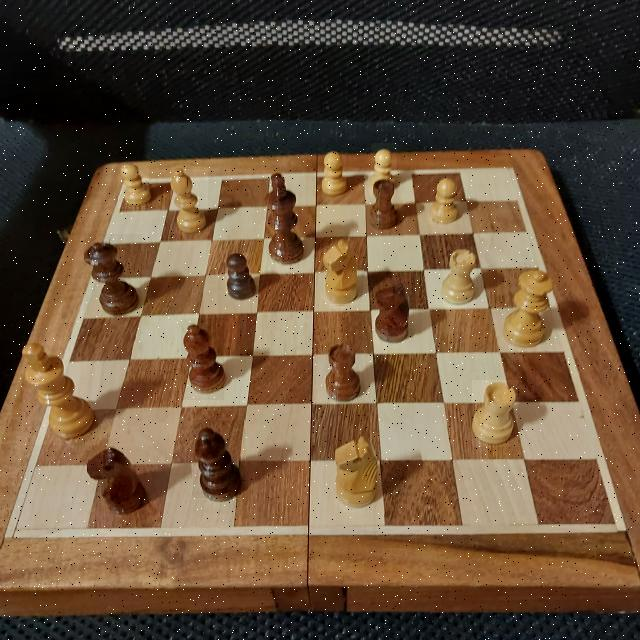black-camel: (193, 420, 246, 498), (181, 318, 224, 400)
black-elephant: (328, 345, 360, 397), (372, 181, 399, 226)
black-horse: (85, 446, 156, 514), (374, 286, 412, 342)
black-king: (264, 175, 302, 260)
black-pawn: (225, 254, 251, 294)
black-queen: (84, 234, 142, 318)
white-camel: (170, 167, 208, 234)
white-elephant: (472, 380, 518, 447), (443, 247, 476, 308)
white-horse: (330, 436, 382, 506), (324, 238, 364, 306)
white-king: (22, 337, 101, 445)
white-pawn: (430, 176, 462, 224), (118, 166, 149, 210), (324, 152, 346, 193), (371, 143, 397, 175)
white-queen: (508, 262, 560, 344)
